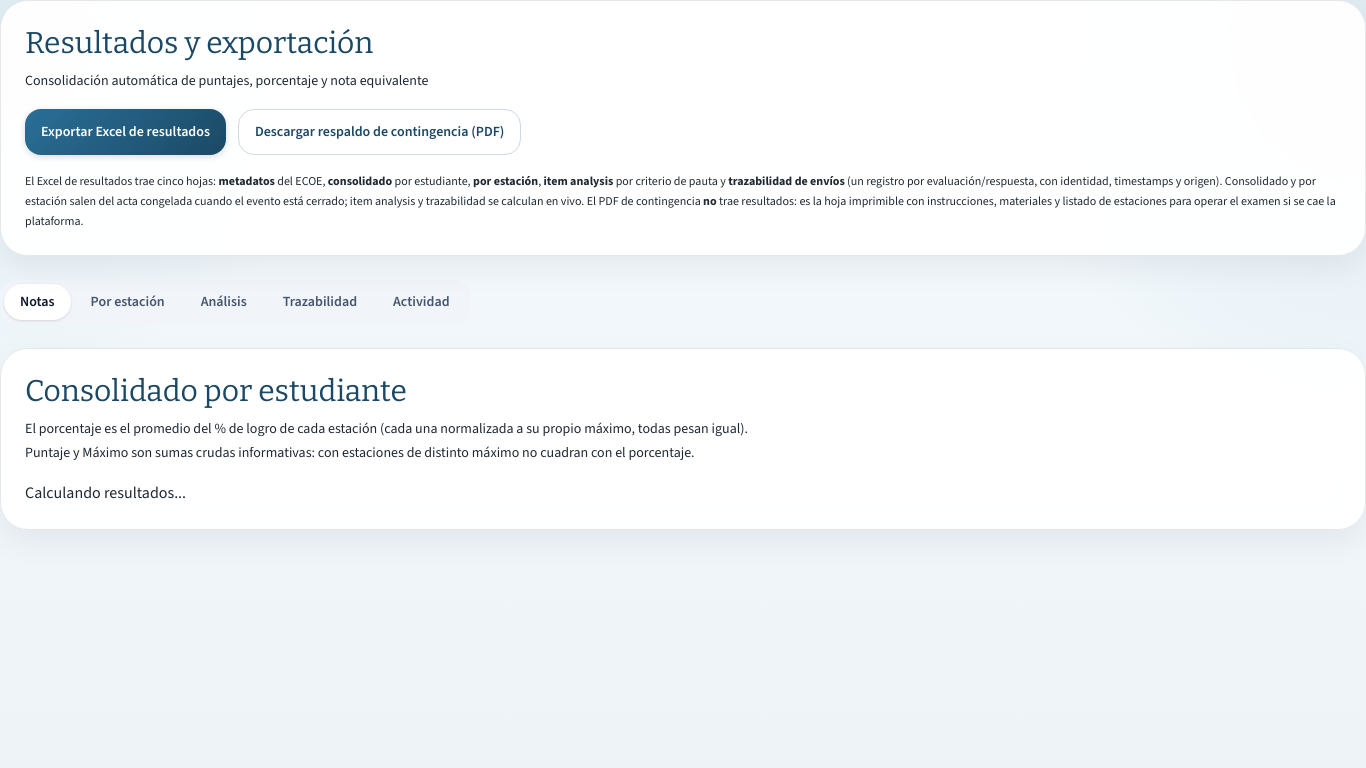
it: ResultsPage — resultados por estación OPT-16 › no rompe cuando by_station.stations está vacío
Click the tab "Por estación" at (128, 302), box [75,284,181,320]
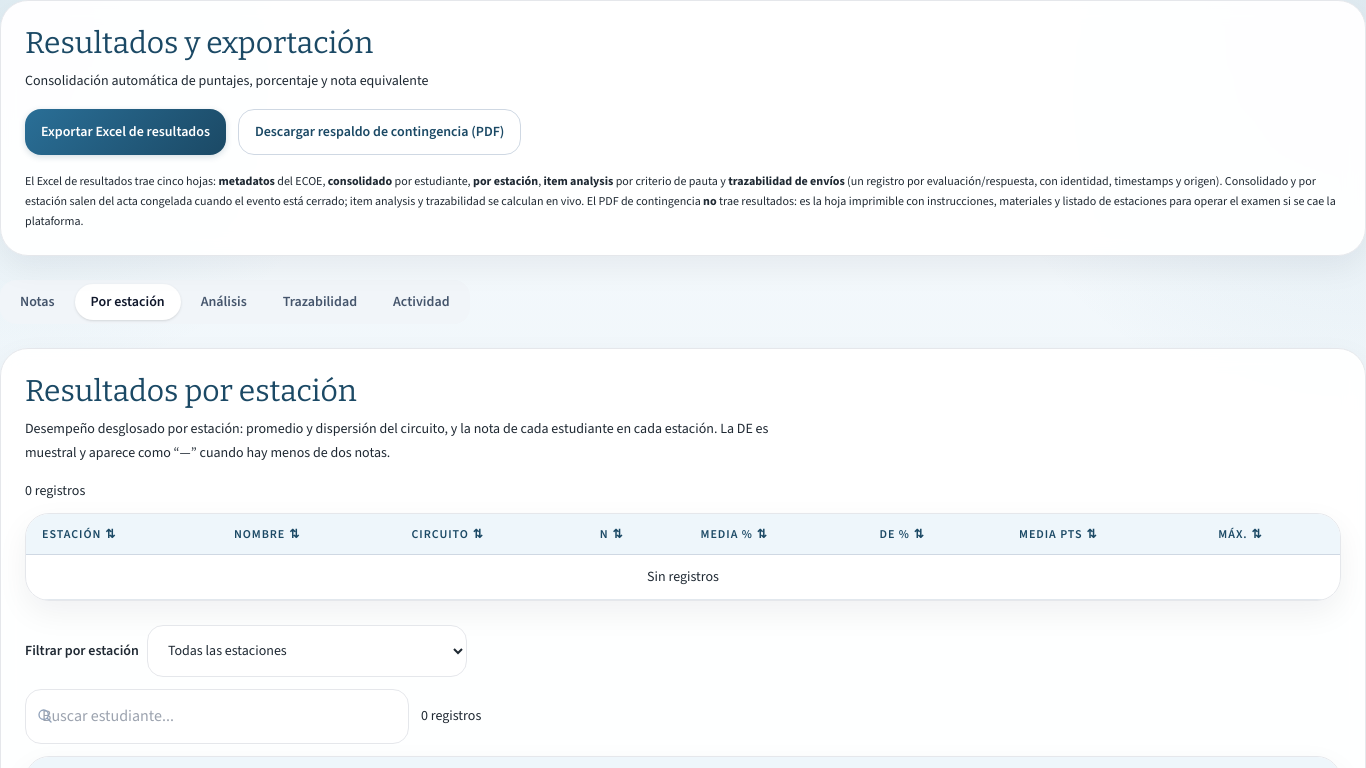
Expected: the heading "Resultados por estación" is shown, [25,373,357,409]
